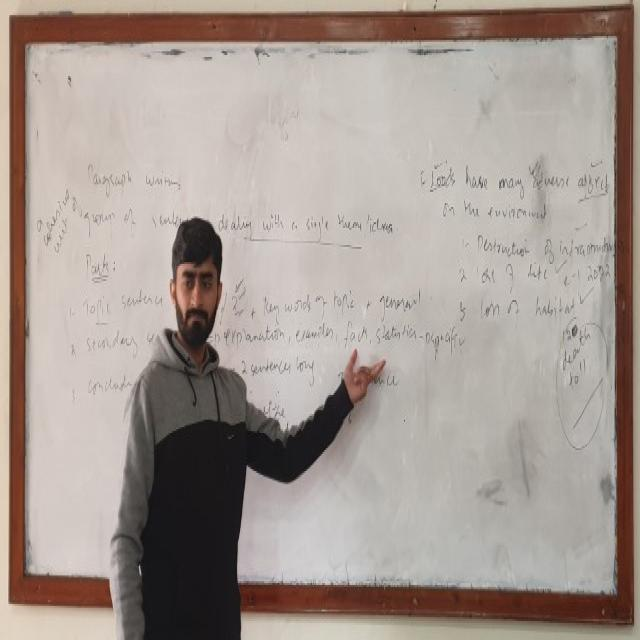Instructor: (120, 214, 246, 632)
White-board: (19, 18, 625, 616)
